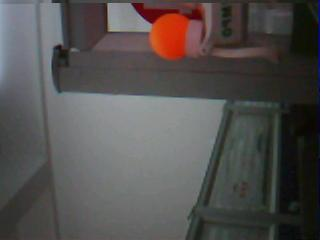oball: (149, 13, 188, 59)
